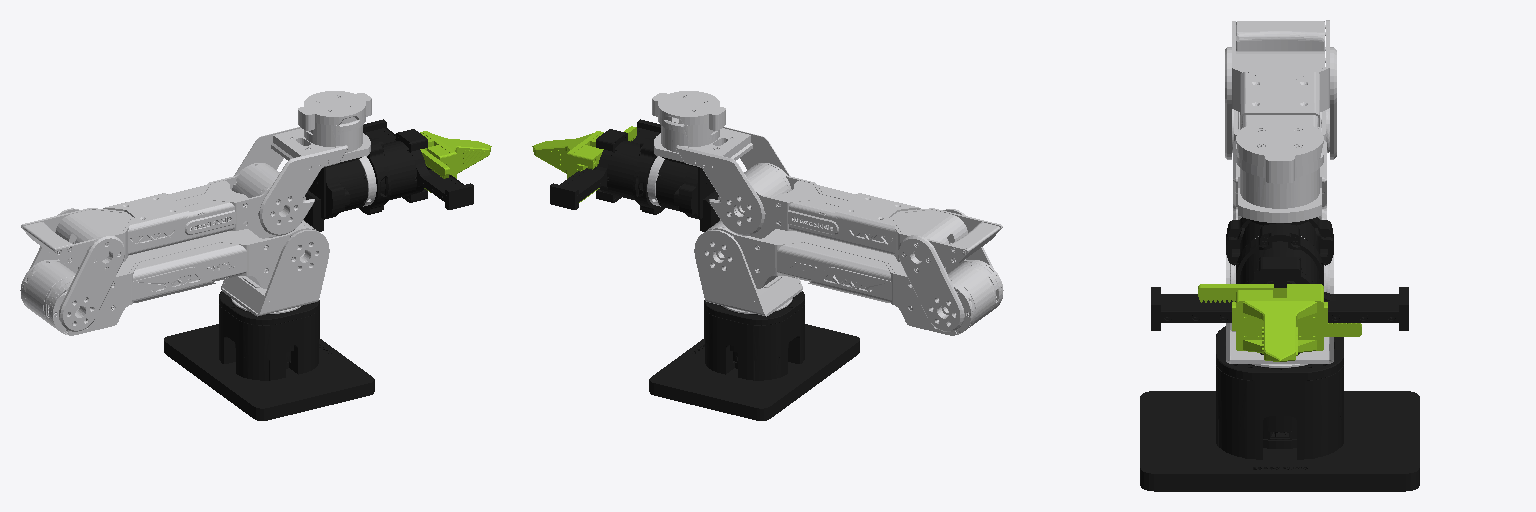
URDF robot description (rebot_b601_dm_with_gripper):
<?xml version="1.0"?>

<!--
URDF of the Seeed Studio reBot Arm B601 DM (6-DOF Damiao-motor arm with the stock actuated
parallel gripper). Kinematics, joint limits and inertials come from the manufacturer's URDF in
https://github.com/Seeed-Projects/reBotArmController_ROS2 (reBot_B601_DM_with_gripper.urdf);
visual meshes are decimated OBJ conversions of the original STLs and collision geometry is a set
of tight convex primitives fitted to each link. This is the plain (non-Drake) version; Drake-specific tags live in drake_urdf/.
-->

<robot name="rebot_b601_dm_with_gripper">

  <material name="Black">
    <color rgba="0.15 0.15 0.15 1.0"/>
  </material>
  <material name="Silver">
    <color rgba="0.82 0.82 0.83 1.0"/>
  </material>
  <material name="NeonGreen">
    <color rgba="0.62 0.82 0.2 1.0"/>
  </material>

  <link name="base_link">
    <inertial>
      <origin rpy="0 0 0" xyz="-7.849E-06 -1.1531E-06 0.029841"/>
      <mass value="0.83660000"/>
      <inertia ixx="0.00133040" ixy="0.00000001" ixz="0.00000000" iyy="0.00213119" iyz="0.00000000" izz="0.00275877"/>
    </inertial>
    <visual>
      <geometry>
        <mesh filename="package://rebot_b601_dm_description/meshes/links/visual/base_link.obj"/>
      </geometry>
      <origin rpy="0 0 0" xyz="0 0 0"/>
      <material name="Black"/>
    </visual>
    <collision>
      <geometry>
        <mesh filename="package://rebot_b601_dm_description/meshes/links/collision/base_link/base_link_box1.obj"/>
      </geometry>
      <origin rpy="0 0 0" xyz="0 0 0"/>
    </collision>
    <collision>
      <geometry>
        <mesh filename="package://rebot_b601_dm_description/meshes/links/collision/base_link/base_link_box2.obj"/>
      </geometry>
      <origin rpy="0 0 0" xyz="0 0 0"/>
    </collision>
  </link>

  <link name="link1">
    <inertial>
      <origin rpy="0 0 0" xyz="0.000113614552951627 -0.000616319527051323 0.0236476372671394"/>
      <mass value="0.16130000"/>
      <inertia ixx="0.00025207" ixy="0.00000000" ixz="-0.00002832" iyy="0.00015464" iyz="0.00000000" izz="0.00023416"/>
    </inertial>
    <visual>
      <geometry>
        <mesh filename="package://rebot_b601_dm_description/meshes/links/visual/link1.obj"/>
      </geometry>
      <origin rpy="0 0 0" xyz="0 0 0"/>
      <material name="Silver"/>
    </visual>
    <collision>
      <geometry>
        <mesh filename="package://rebot_b601_dm_description/meshes/links/collision/link1/link1_box1.obj"/>
      </geometry>
      <origin rpy="0 0 0" xyz="0 0 0"/>
    </collision>
    <collision>
      <geometry>
        <mesh filename="package://rebot_b601_dm_description/meshes/links/collision/link1/link1_box2.obj"/>
      </geometry>
      <origin rpy="0 0 0" xyz="0 0 0"/>
    </collision>
    <collision>
      <geometry>
        <mesh filename="package://rebot_b601_dm_description/meshes/links/collision/link1/link1_box3.obj"/>
      </geometry>
      <origin rpy="0 0 0" xyz="0 0 0"/>
    </collision>
    <collision>
      <geometry>
        <mesh filename="package://rebot_b601_dm_description/meshes/links/collision/link1/link1_box4.obj"/>
      </geometry>
      <origin rpy="0 0 0" xyz="0 0 0"/>
    </collision>
  </link>

  <joint name="joint1" type="revolute">
    <origin rpy="0 0 0" xyz="-8.416E-05 0 0.08465"/>
    <parent link="base_link"/>
    <child link="link1"/>
    <axis xyz="0 0 1"/>
    <limit effort="27" lower="-2.8" upper="2.8" velocity="50"/>
    <dynamics damping="1.0"/>
  </joint>

  <link name="link2">
    <inertial>
      <origin rpy="0 0 0" xyz="-0.13225622308888 -0.0030617036386309 -0.0308306967030205"/>
      <mass value="1.32660000"/>
      <inertia ixx="0.00073374" ixy="-0.00000043" ixz="0.00000851" iyy="0.01255987" iyz="0.00000128" izz="0.01281387"/>
    </inertial>
    <visual>
      <geometry>
        <mesh filename="package://rebot_b601_dm_description/meshes/links/visual/link2.obj"/>
      </geometry>
      <origin rpy="0 0 0" xyz="0 0 0"/>
      <material name="Silver"/>
    </visual>
    <collision>
      <geometry>
        <mesh filename="package://rebot_b601_dm_description/meshes/links/collision/link2/link2_box1.obj"/>
      </geometry>
      <origin rpy="0 0 0" xyz="0 0 0"/>
    </collision>
    <collision>
      <geometry>
        <mesh filename="package://rebot_b601_dm_description/meshes/links/collision/link2/link2_box2.obj"/>
      </geometry>
      <origin rpy="0 0 0" xyz="0 0 0"/>
    </collision>
    <collision>
      <geometry>
        <mesh filename="package://rebot_b601_dm_description/meshes/links/collision/link2/link2_box3.obj"/>
      </geometry>
      <origin rpy="0 0 0" xyz="0 0 0"/>
    </collision>
  </link>

  <joint name="joint2" type="revolute">
    <origin rpy="-1.5708 0 0" xyz="0.020084 0.031625 0.05555"/>
    <parent link="link1"/>
    <child link="link2"/>
    <axis xyz="0 0 -1"/>
    <limit effort="27" lower="-3.14" upper="0" velocity="50"/>
    <dynamics damping="1.0"/>
  </joint>

  <link name="link3">
    <inertial>
      <origin rpy="0 0 0" xyz="0.121040035791843 -0.0536211076627949 -0.0310137854608077"/>
      <mass value="0.83530000"/>
      <inertia ixx="0.00046807" ixy="-0.00003456" ixz="-0.00004260" iyy="0.00632695" iyz="0.00000006" izz="0.00648221"/>
    </inertial>
    <visual>
      <geometry>
        <mesh filename="package://rebot_b601_dm_description/meshes/links/visual/link3.obj"/>
      </geometry>
      <origin rpy="0 0 0" xyz="0 0 0"/>
      <material name="Silver"/>
    </visual>
    <collision>
      <geometry>
        <mesh filename="package://rebot_b601_dm_description/meshes/links/collision/link3/link3_box1.obj"/>
      </geometry>
      <origin rpy="0 0 0" xyz="0 0 0"/>
    </collision>
    <collision>
      <geometry>
        <mesh filename="package://rebot_b601_dm_description/meshes/links/collision/link3/link3_box2.obj"/>
      </geometry>
      <origin rpy="0 0 0" xyz="0 0 0"/>
    </collision>
    <collision>
      <geometry>
        <mesh filename="package://rebot_b601_dm_description/meshes/links/collision/link3/link3_box3.obj"/>
      </geometry>
      <origin rpy="0 0 0" xyz="0 0 0"/>
    </collision>
    <collision>
      <geometry>
        <mesh filename="package://rebot_b601_dm_description/meshes/links/collision/link3/link3_box4.obj"/>
      </geometry>
      <origin rpy="0 0 0" xyz="0 0 0"/>
    </collision>
  </link>

  <joint name="joint3" type="revolute">
    <origin rpy="0 0 0" xyz="-0.264 0 0"/>
    <parent link="link2"/>
    <child link="link3"/>
    <axis xyz="0 0 1"/>
    <limit effort="27" lower="-3.14" upper="0" velocity="50"/>
    <dynamics damping="1.0"/>
  </joint>

  <link name="link4">
    <inertial>
      <origin rpy="0 0 0" xyz="0.0608200956293136 -0.0511711906613122 -0.030299458623927"/>
      <mass value="0.52000000"/>
      <inertia ixx="0.00045986" ixy="0.00024219" ixz="-0.00000672" iyy="0.00075258" iyz="-0.00000535" izz="0.00066742"/>
    </inertial>
    <visual>
      <geometry>
        <mesh filename="package://rebot_b601_dm_description/meshes/links/visual/link4.obj"/>
      </geometry>
      <origin rpy="0 0 0" xyz="0 0 0"/>
      <material name="Silver"/>
    </visual>
    <collision>
      <geometry>
        <mesh filename="package://rebot_b601_dm_description/meshes/links/collision/link4/link4_box1.obj"/>
      </geometry>
      <origin rpy="0 0 0" xyz="0 0 0"/>
    </collision>
    <collision>
      <geometry>
        <mesh filename="package://rebot_b601_dm_description/meshes/links/collision/link4/link4_box2.obj"/>
      </geometry>
      <origin rpy="0 0 0" xyz="0 0 0"/>
    </collision>
    <collision>
      <geometry>
        <mesh filename="package://rebot_b601_dm_description/meshes/links/collision/link4/link4_box3.obj"/>
      </geometry>
      <origin rpy="0 0 0" xyz="0 0 0"/>
    </collision>
  </link>

  <joint name="joint4" type="revolute">
    <origin rpy="0 0 0" xyz="0.2426 -0.054 -0.001625"/>
    <parent link="link3"/>
    <child link="link4"/>
    <axis xyz="0 0 1"/>
    <limit effort="7" lower="-1.87" upper="1.57" velocity="200"/>
    <dynamics damping="1.0"/>
  </joint>

  <link name="link5">
    <inertial>
      <origin rpy="0 0 0" xyz="-0.00502802058982517 1.73866206692364E-06 0.0386233236326755"/>
      <mass value="0.38300000"/>
      <inertia ixx="0.00019772" ixy="-0.00000062" ixz="-0.00002426" iyy="0.00021737" iyz="0.00000002" izz="0.00017191"/>
    </inertial>
    <visual>
      <geometry>
        <mesh filename="package://rebot_b601_dm_description/meshes/links/visual/link5.obj"/>
      </geometry>
      <origin rpy="0 0 0" xyz="0 0 0"/>
      <material name="Black"/>
    </visual>
    <collision>
      <geometry>
        <mesh filename="package://rebot_b601_dm_description/meshes/links/collision/link5/link5_box1.obj"/>
      </geometry>
      <origin rpy="0 0 0" xyz="0 0 0"/>
    </collision>
    <collision>
      <geometry>
        <mesh filename="package://rebot_b601_dm_description/meshes/links/collision/link5/link5_box2.obj"/>
      </geometry>
      <origin rpy="0 0 0" xyz="0 0 0"/>
    </collision>
    <collision>
      <geometry>
        <mesh filename="package://rebot_b601_dm_description/meshes/links/collision/link5/link5_box3.obj"/>
      </geometry>
      <origin rpy="0 0 0" xyz="0 0 0"/>
    </collision>
    <collision>
      <geometry>
        <mesh filename="package://rebot_b601_dm_description/meshes/links/collision/link5/link5_box4.obj"/>
      </geometry>
      <origin rpy="0 0 0" xyz="0 0 0"/>
    </collision>
    <collision>
      <geometry>
        <mesh filename="package://rebot_b601_dm_description/meshes/links/collision/link5/link5_box5.obj"/>
      </geometry>
      <origin rpy="0 0 0" xyz="0 0 0"/>
    </collision>
  </link>

  <joint name="joint5" type="revolute">
    <origin rpy="-1.5708 0 0" xyz="0.078308 -0.0375 -0.03"/>
    <parent link="link4"/>
    <child link="link5"/>
    <axis xyz="0 0 1"/>
    <limit effort="7" lower="-1.57" upper="1.57" velocity="200"/>
    <dynamics damping="1.0"/>
  </joint>

  <link name="link6">
    <inertial>
      <origin rpy="0 0 0" xyz="3.76418727127126E-06 -0.000100908819946677 0.0253308606425965"/>
      <mass value="0.36630000"/>
      <inertia ixx="0.00015554" ixy="-0.00000" ixz="-0.00000" iyy="0.00015554" iyz="-0.0000" izz="0.00013966"/>
    </inertial>
    <visual>
      <geometry>
        <mesh filename="package://rebot_b601_dm_description/meshes/links/visual/link6.obj"/>
      </geometry>
      <origin rpy="0 0 0" xyz="0 0 0"/>
      <material name="Silver"/>
    </visual>
    <collision>
      <geometry>
        <mesh filename="package://rebot_b601_dm_description/meshes/links/collision/link6/link6_cylinder1.obj"/>
      </geometry>
      <origin rpy="0 0 0" xyz="0 0 0"/>
    </collision>
  </link>

  <joint name="joint6" type="revolute">
    <origin rpy="0 1.5708 0" xyz="0.023692 0 0.04"/>
    <parent link="link5"/>
    <child link="link6"/>
    <axis xyz="0 0 1"/>
    <limit effort="7" lower="-3.14" upper="3.14" velocity="200"/>
    <dynamics damping="1.0"/>
  </joint>

  <link name="gripper_link">
    <inertial>
      <origin rpy="0 0 0" xyz="-0.11400456131826 7.30809328589541E-05 -8.098254686284E-08"/>
      <mass value="0.36534420980225685"/>
      <inertia ixx="0.000467000783810404" ixy="-5.578307361665363e-07" ixz="-1.2155508679996518e-09" iyy="0.0001175784085605226" iyz="-2.3209457812342875e-08" izz="0.00041239555261615214"/>
    </inertial>
    <visual>
      <geometry>
        <mesh filename="package://rebot_b601_dm_description/meshes/gripper/visual/gripper_link.obj"/>
      </geometry>
      <origin rpy="0 0 0" xyz="0 0 0"/>
      <material name="Black"/>
    </visual>
    <collision>
      <geometry>
        <mesh filename="package://rebot_b601_dm_description/meshes/gripper/collision/gripper_link/gripper_link_box1.obj"/>
      </geometry>
      <origin rpy="0 0 0" xyz="0 0 0"/>
    </collision>
    <collision>
      <geometry>
        <mesh filename="package://rebot_b601_dm_description/meshes/gripper/collision/gripper_link/gripper_link_cylinder1.obj"/>
      </geometry>
      <origin rpy="0 0 0" xyz="0 0 0"/>
    </collision>
    <collision>
      <geometry>
        <mesh filename="package://rebot_b601_dm_description/meshes/gripper/collision/gripper_link/gripper_link_box2.obj"/>
      </geometry>
      <origin rpy="0 0 0" xyz="0 0 0"/>
    </collision>
  </link>

  <joint name="gripper_joint" type="fixed">
    <origin rpy="0 -1.5708 0" xyz="0 0 0.15971"/>
    <parent link="link6"/>
    <child link="gripper_link"/>
  </joint>

  <link name="gripper_left">
    <inertial>
      <origin rpy="0 0 0" xyz="0.00937154605945142 -0.0183514409006279 -0.00213050813223617"/>
      <mass value="0.0423278952416158"/>
      <inertia ixx="9.68819007445228E-06" ixy="-1.14547785891207E-06" ixz="1.82410432419993E-08" iyy="9.7195653452821E-06" iyz="1.20737618180169E-07" izz="1.13638462227589E-05"/>
    </inertial>
    <visual>
      <geometry>
        <mesh filename="package://rebot_b601_dm_description/meshes/gripper/visual/gripper_left.obj"/>
      </geometry>
      <origin rpy="0 0 0" xyz="0 0 0"/>
      <material name="NeonGreen"/>
    </visual>
    <collision>
      <geometry>
        <mesh filename="package://rebot_b601_dm_description/meshes/gripper/collision/gripper_left/gripper_left_box1.obj"/>
      </geometry>
      <origin rpy="0 0 0" xyz="0 0 0"/>
    </collision>
    <collision>
      <geometry>
        <mesh filename="package://rebot_b601_dm_description/meshes/gripper/collision/gripper_left/gripper_left_box2.obj"/>
      </geometry>
      <origin rpy="0 0 0" xyz="0 0 0"/>
    </collision>
    <collision>
      <geometry>
        <mesh filename="package://rebot_b601_dm_description/meshes/gripper/collision/gripper_left/gripper_left_box3.obj"/>
      </geometry>
      <origin rpy="0 0 0" xyz="0 0 0"/>
    </collision>
    <collision>
      <geometry>
        <mesh filename="package://rebot_b601_dm_description/meshes/gripper/collision/gripper_left/gripper_left_box4.obj"/>
      </geometry>
      <origin rpy="0 0 0" xyz="0 0 0"/>
    </collision>
    <collision>
      <geometry>
        <mesh filename="package://rebot_b601_dm_description/meshes/gripper/collision/gripper_left/gripper_left_box5.obj"/>
      </geometry>
      <origin rpy="0 0 0" xyz="0 0 0"/>
    </collision>
  </link>

  <joint name="gripper_joint1" type="prismatic">
    <origin rpy="0 0 -1.5708" xyz="-0.042091 2.7531E-05 -1.3031E-05"/>
    <parent link="gripper_link"/>
    <child link="gripper_left"/>
    <axis xyz="1 0 0"/>
    <limit effort="100" lower="0" upper="0.0715" velocity="15"/>
  </joint>

  <link name="gripper_right">
    <inertial>
      <origin rpy="0 0 0" xyz="0.00937154599936671 0.0183514410059713 0.00213050822993754"/>
      <mass value="0.0423278949561274"/>
      <inertia ixx="9.68819002375832E-06" ixy="1.14547786360874E-06" ixz="-1.82410118281856E-08" iyy="9.7195652747221E-06" iyz="1.20737613592695E-07" izz="1.13638461944347E-05"/>
    </inertial>
    <visual>
      <geometry>
        <mesh filename="package://rebot_b601_dm_description/meshes/gripper/visual/gripper_right.obj"/>
      </geometry>
      <origin rpy="0 0 0" xyz="0 0 0"/>
      <material name="NeonGreen"/>
    </visual>
    <collision>
      <geometry>
        <mesh filename="package://rebot_b601_dm_description/meshes/gripper/collision/gripper_right/gripper_right_box1.obj"/>
      </geometry>
      <origin rpy="0 0 0" xyz="0 0 0"/>
    </collision>
    <collision>
      <geometry>
        <mesh filename="package://rebot_b601_dm_description/meshes/gripper/collision/gripper_right/gripper_right_box2.obj"/>
      </geometry>
      <origin rpy="0 0 0" xyz="0 0 0"/>
    </collision>
    <collision>
      <geometry>
        <mesh filename="package://rebot_b601_dm_description/meshes/gripper/collision/gripper_right/gripper_right_box3.obj"/>
      </geometry>
      <origin rpy="0 0 0" xyz="0 0 0"/>
    </collision>
    <collision>
      <geometry>
        <mesh filename="package://rebot_b601_dm_description/meshes/gripper/collision/gripper_right/gripper_right_box4.obj"/>
      </geometry>
      <origin rpy="0 0 0" xyz="0 0 0"/>
    </collision>
    <collision>
      <geometry>
        <mesh filename="package://rebot_b601_dm_description/meshes/gripper/collision/gripper_right/gripper_right_box5.obj"/>
      </geometry>
      <origin rpy="0 0 0" xyz="0 0 0"/>
    </collision>
  </link>

  <joint name="gripper_joint2" type="prismatic">
    <origin rpy="0 0 1.5708" xyz="-0.042091 -2.7531E-05 1.3031E-05"/>
    <parent link="gripper_link"/>
    <child link="gripper_right"/>
    <axis xyz="1 0 0"/>
    <limit effort="100" lower="0" upper="0.0715" velocity="15"/>
  </joint>

  <!--
  TCP reference frame for FK / IK. The gripper fingertips meet exactly on the link6 z axis at
  z = 0.15971 (the gripper_link frame origin) when the gripper is closed, so the tip frame sits
  there with the same orientation as link6: z is the tool approach axis, y is the finger travel
  direction.
  -->
  <link name="link_eef_tip"/>

  <joint name="joint_eef_tip" type="fixed">
    <origin rpy="0 0 0" xyz="0 0 0.15971"/>
    <parent link="link6"/>
    <child link="link_eef_tip"/>
  </joint>

  <!-- Actuators -->
  <transmission name="tran1">
    <type>transmission_interface/SimpleTransmission</type>
    <joint name="joint1">
      <hardwareInterface>hardware_interface/PositionJointInterface</hardwareInterface>
    </joint>
    <actuator name="motor1">
      <hardwareInterface>hardware_interface/PositionJointInterface</hardwareInterface>
      <mechanicalReduction>1</mechanicalReduction>
    </actuator>
  </transmission>

  <transmission name="tran2">
    <type>transmission_interface/SimpleTransmission</type>
    <joint name="joint2">
      <hardwareInterface>hardware_interface/PositionJointInterface</hardwareInterface>
    </joint>
    <actuator name="motor2">
      <hardwareInterface>hardware_interface/PositionJointInterface</hardwareInterface>
      <mechanicalReduction>1</mechanicalReduction>
    </actuator>
  </transmission>

  <transmission name="tran3">
    <type>transmission_interface/SimpleTransmission</type>
    <joint name="joint3">
      <hardwareInterface>hardware_interface/PositionJointInterface</hardwareInterface>
    </joint>
    <actuator name="motor3">
      <hardwareInterface>hardware_interface/PositionJointInterface</hardwareInterface>
      <mechanicalReduction>1</mechanicalReduction>
    </actuator>
  </transmission>

  <transmission name="tran4">
    <type>transmission_interface/SimpleTransmission</type>
    <joint name="joint4">
      <hardwareInterface>hardware_interface/PositionJointInterface</hardwareInterface>
    </joint>
    <actuator name="motor4">
      <hardwareInterface>hardware_interface/PositionJointInterface</hardwareInterface>
      <mechanicalReduction>1</mechanicalReduction>
    </actuator>
  </transmission>

  <transmission name="tran5">
    <type>transmission_interface/SimpleTransmission</type>
    <joint name="joint5">
      <hardwareInterface>hardware_interface/PositionJointInterface</hardwareInterface>
    </joint>
    <actuator name="motor5">
      <hardwareInterface>hardware_interface/PositionJointInterface</hardwareInterface>
      <mechanicalReduction>1</mechanicalReduction>
    </actuator>
  </transmission>

  <transmission name="tran6">
    <type>transmission_interface/SimpleTransmission</type>
    <joint name="joint6">
      <hardwareInterface>hardware_interface/PositionJointInterface</hardwareInterface>
    </joint>
    <actuator name="motor6">
      <hardwareInterface>hardware_interface/PositionJointInterface</hardwareInterface>
      <mechanicalReduction>1</mechanicalReduction>
    </actuator>
  </transmission>

  <transmission name="tran7">
    <type>transmission_interface/SimpleTransmission</type>
    <joint name="gripper_joint1">
      <hardwareInterface>hardware_interface/PositionJointInterface</hardwareInterface>
    </joint>
    <actuator name="motor7">
      <hardwareInterface>hardware_interface/PositionJointInterface</hardwareInterface>
      <mechanicalReduction>1</mechanicalReduction>
    </actuator>
  </transmission>

  <transmission name="tran8">
    <type>transmission_interface/SimpleTransmission</type>
    <joint name="gripper_joint2">
      <hardwareInterface>hardware_interface/PositionJointInterface</hardwareInterface>
    </joint>
    <actuator name="motor8">
      <hardwareInterface>hardware_interface/PositionJointInterface</hardwareInterface>
      <mechanicalReduction>1</mechanicalReduction>
    </actuator>
  </transmission>

</robot>

--- Render facts (derived) ---
3 views of the same robot in one strip: view 1: azimuth 30°, elevation 25°; view 2: azimuth 150°, elevation 25°; view 3: azimuth 270°, elevation 25° (orthographic).
Model rebot_b601_dm_with_gripper with 11 links and 10 joints (6 revolute, 2 prismatic, 2 fixed), rooted at base_link, posed every joint at zero.
Links seen in each view (by area): view 1: link3, base_link, link2, link4, gripper_link, link1, link5, gripper_right, gripper_left; view 2: link3, base_link, link2, link4, gripper_link, link1, link5, gripper_left; view 3: base_link, link3, link4, gripper_link, gripper_left, gripper_right, link5, link1.
Link boxes in pixels (<box>): link3: <box>21,163,305,331</box>; base_link: <box>164,291,374,420</box>; link2: <box>20,220,318,335</box>; link4: <box>234,91,371,235</box>; gripper_link: <box>359,119,473,214</box>; link1: <box>221,229,329,316</box>; link5: <box>304,157,367,231</box>; gripper_right: <box>424,141,490,192</box>; gripper_left: <box>420,131,491,178</box>; link3: <box>718,163,1002,331</box>; base_link: <box>649,291,859,420</box>; link2: <box>707,220,1003,335</box>; link4: <box>652,91,789,235</box>; gripper_link: <box>550,119,664,214</box>; link1: <box>694,229,802,316</box>; link5: <box>656,157,719,231</box>; gripper_left: <box>533,126,636,178</box>; base_link: <box>1140,326,1419,491</box>; link3: <box>1225,20,1336,217</box>; link4: <box>1233,115,1326,222</box>; gripper_link: <box>1151,223,1408,354</box>; gripper_left: <box>1198,284,1327,361</box>; gripper_right: <box>1232,290,1361,361</box>; link5: <box>1226,217,1333,265</box>; link1: <box>1226,255,1333,367</box>.
Size in the robot's own frame: 0.5328 by 0.2 by 0.2822 metres.
Meshes: 10 distinct files referenced, 10 mesh visuals loaded (10 OBJ).
